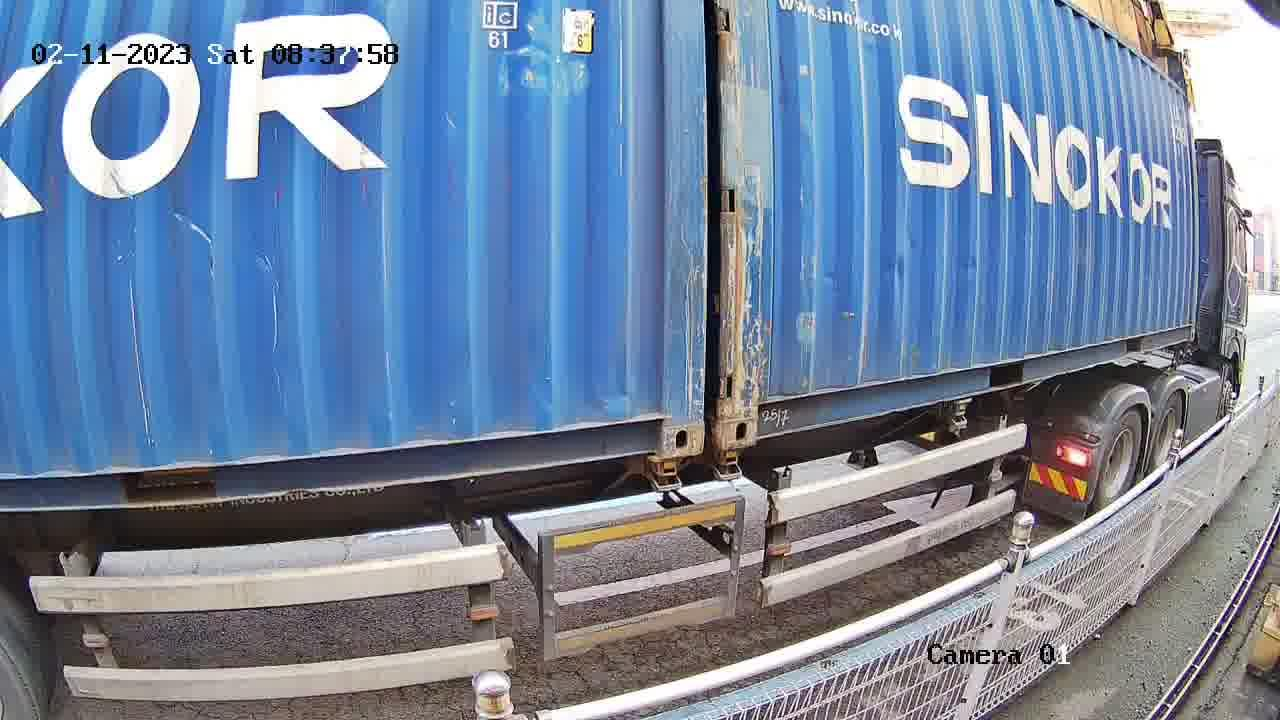Cone: (644, 456, 683, 495), (715, 447, 744, 488)
Hole_L: (720, 380, 788, 449)
Hole_R: (627, 391, 703, 455)
Tire: (1097, 410, 1143, 511), (1149, 389, 1184, 471)
